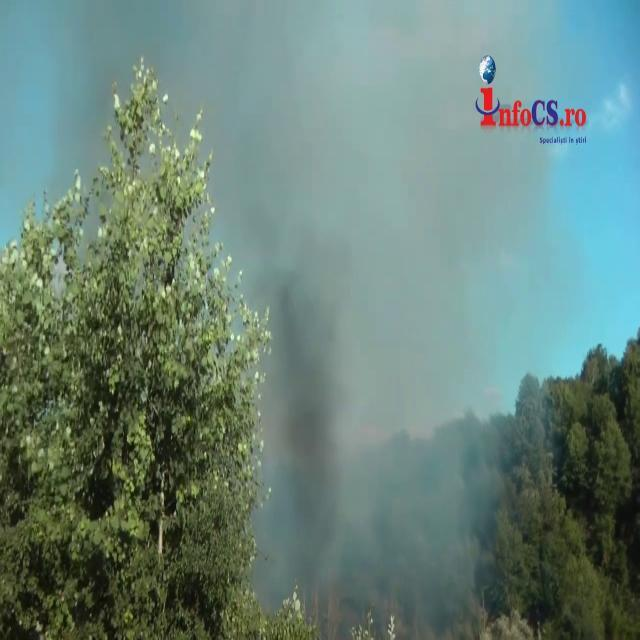Smoke: (225, 2, 548, 632)
